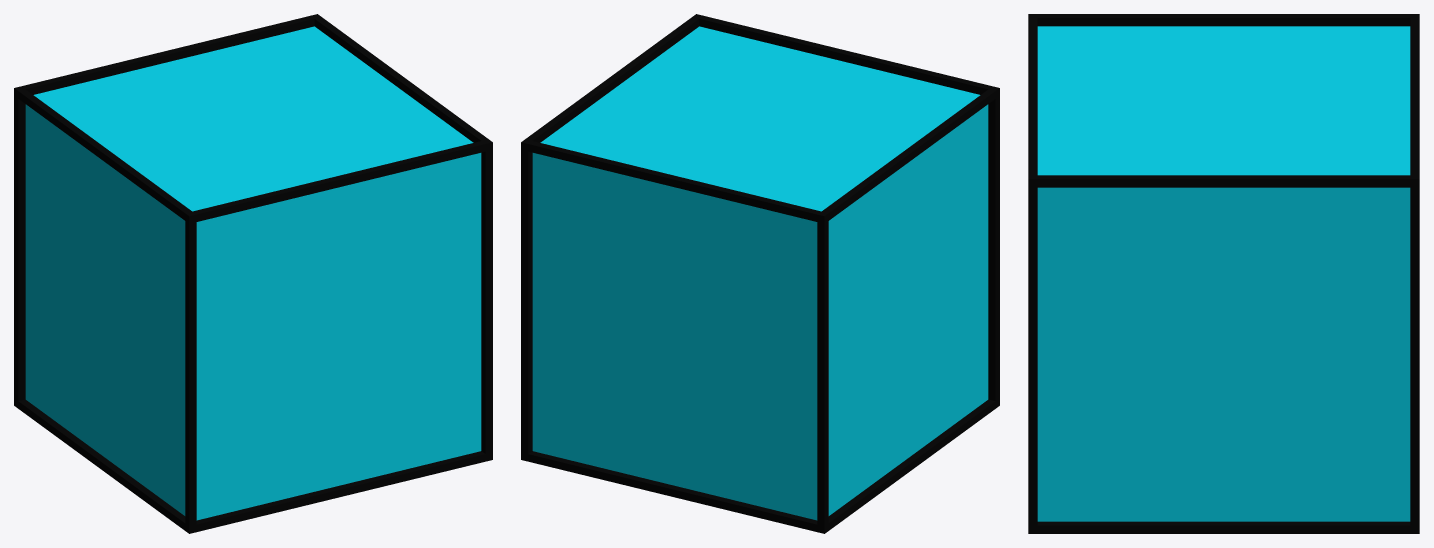
Rendered from cyanOutline.fbx.
3 renders of one model, left to right at view 1: azimuth 30°, elevation 25°; view 2: azimuth 150°, elevation 25°; view 3: azimuth 270°, elevation 25°, orthographic. The views are drawn at different scales.
Visible parts, largest first — view 1: cyanOutline; view 2: cyanOutline; view 3: cyanOutline.
Part boxes in pixels (x1,y1,x2,y2): cyanOutline: (14, 14, 492, 533); cyanOutline: (521, 14, 999, 533); cyanOutline: (1028, 14, 1419, 533).
Size of the model in its own units: 1.05 by 1.05 by 1.05.
